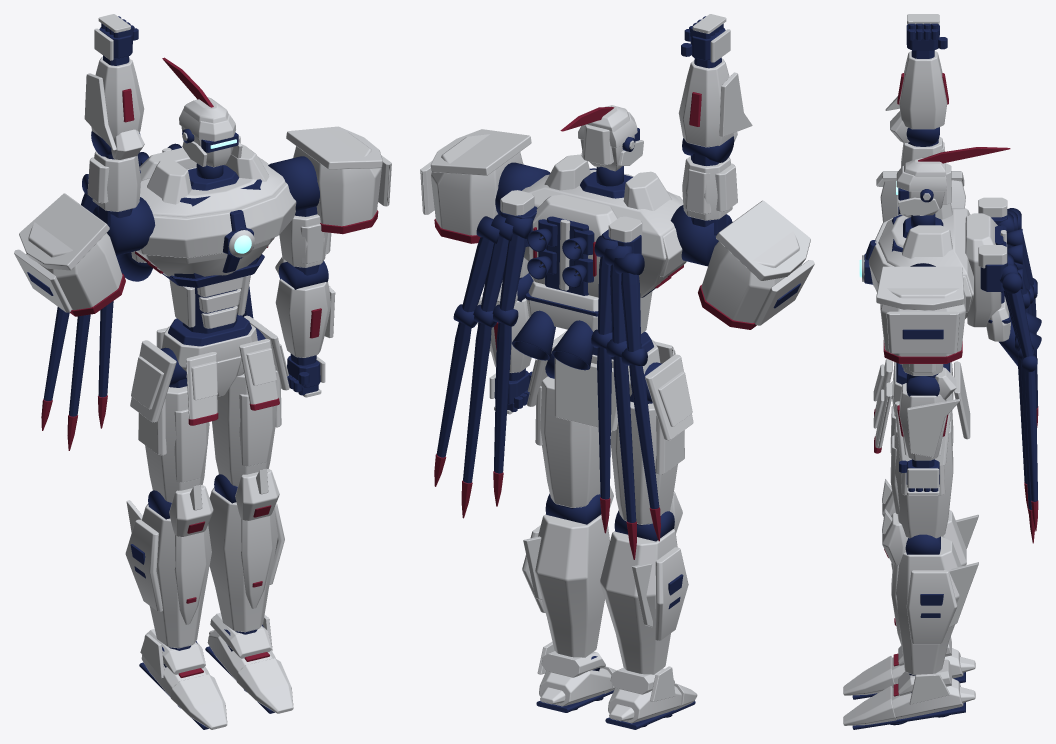
File: mech3.glb
The picture shows the model from 3 angles, left to right: view 1: azimuth 30°, elevation 25°; view 2: azimuth 150°, elevation 25°; view 3: azimuth 270°, elevation 25°; orthographic projection. The views are drawn at different scales.
Visible parts, largest first — view 1: Body, Leg_R, Leg_L, Arm_R, Arm_L, Wings, Head; view 2: Body, Wings, Arm_R, Leg_L, Leg_R, Arm_L, Head; view 3: Leg_L, Body, Arm_L, Arm_R, Wings, Leg_R, Head.
Part boxes in pixels (bbox=[...]): Body: bbox=[93, 135, 319, 425]; Leg_R: bbox=[125, 347, 227, 729]; Leg_L: bbox=[205, 327, 293, 713]; Arm_R: bbox=[14, 14, 144, 316]; Arm_L: bbox=[275, 126, 391, 397]; Wings: bbox=[41, 174, 253, 450]; Head: bbox=[162, 57, 242, 178]; Body: bbox=[495, 154, 732, 440]; Wings: bbox=[434, 214, 660, 559]; Arm_R: bbox=[678, 14, 814, 329]; Leg_L: bbox=[522, 354, 616, 712]; Leg_R: bbox=[600, 362, 697, 729]; Arm_L: bbox=[420, 129, 533, 414]; Head: bbox=[560, 105, 643, 186]; Leg_L: bbox=[843, 421, 978, 729]; Body: bbox=[859, 197, 1041, 465]; Arm_L: bbox=[876, 266, 965, 495]; Arm_R: bbox=[876, 14, 965, 222]; Wings: bbox=[998, 208, 1038, 543]; Leg_R: bbox=[843, 406, 978, 699]; Head: bbox=[896, 147, 1010, 227].
Bounding box in the file's own units: 1.22 × 2.37 × 0.6552.
